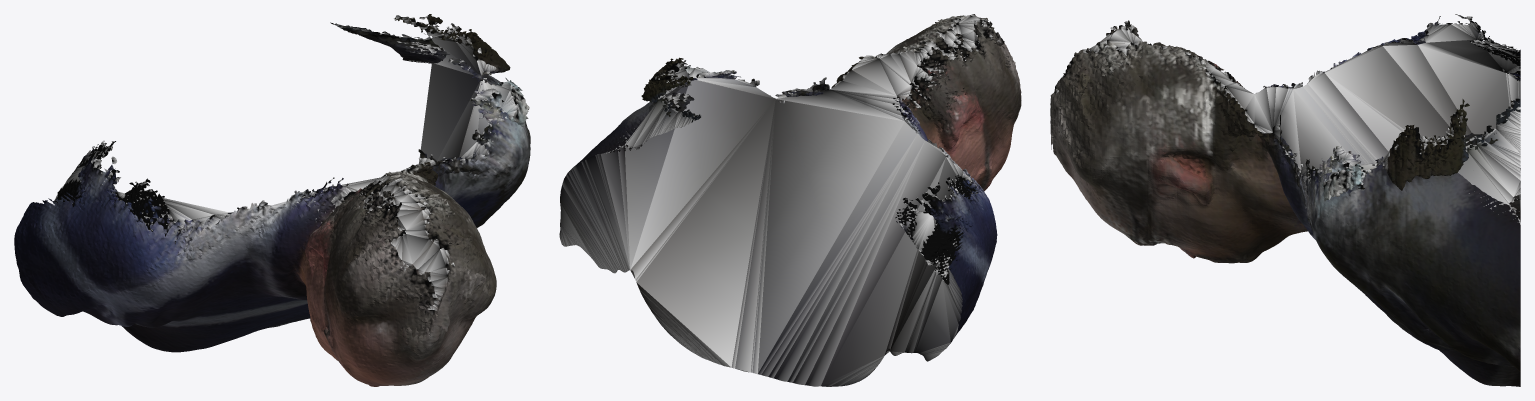
Rendered from localjoost.fbx.
3 views of the same model, side by side, from view 1: azimuth 30°, elevation 25°; view 2: azimuth 150°, elevation 25°; view 3: azimuth 270°, elevation 25° (orthographic). The views are drawn at different scales.
Parts seen in each view (by area): view 1: Mesh; view 2: Mesh; view 3: Mesh.
Boxes of the visible parts, x1,y1,x2,y2 form: Mesh: (14, 14, 530, 386); Mesh: (559, 14, 1021, 386); Mesh: (1050, 14, 1520, 386).
Size of the model in its own units: 601 by 368 by 506.
